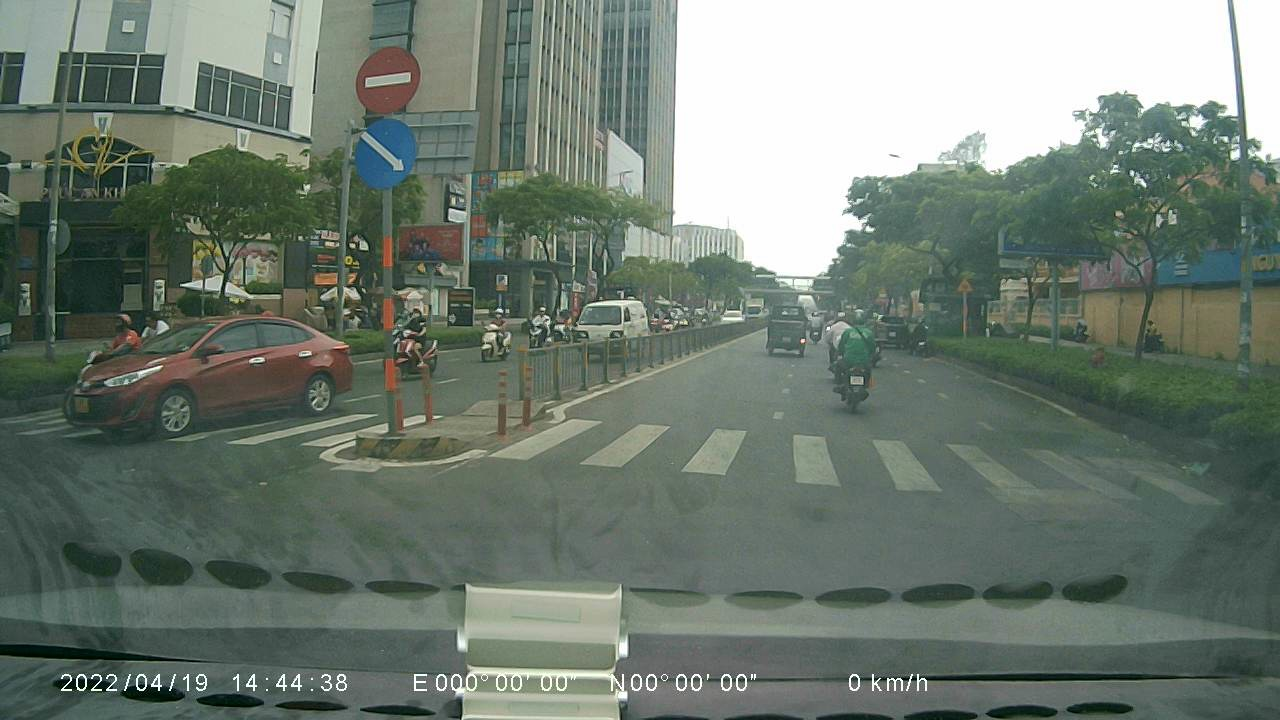Cam di nguoc chieu: (355, 46, 424, 113)
Huong di phai re phai: (352, 119, 417, 192)
